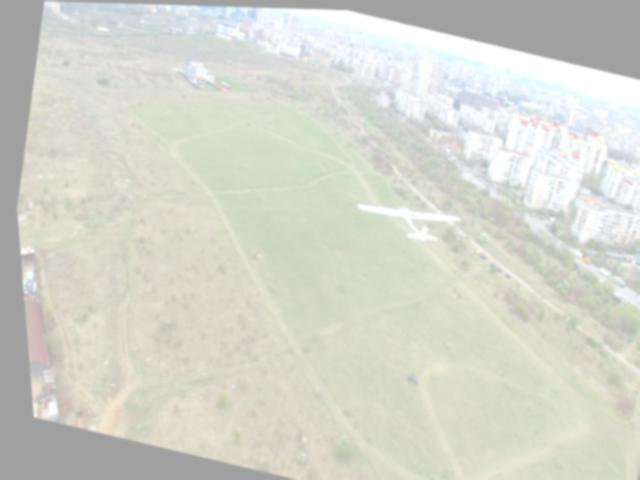plane: (349, 187, 459, 245)
